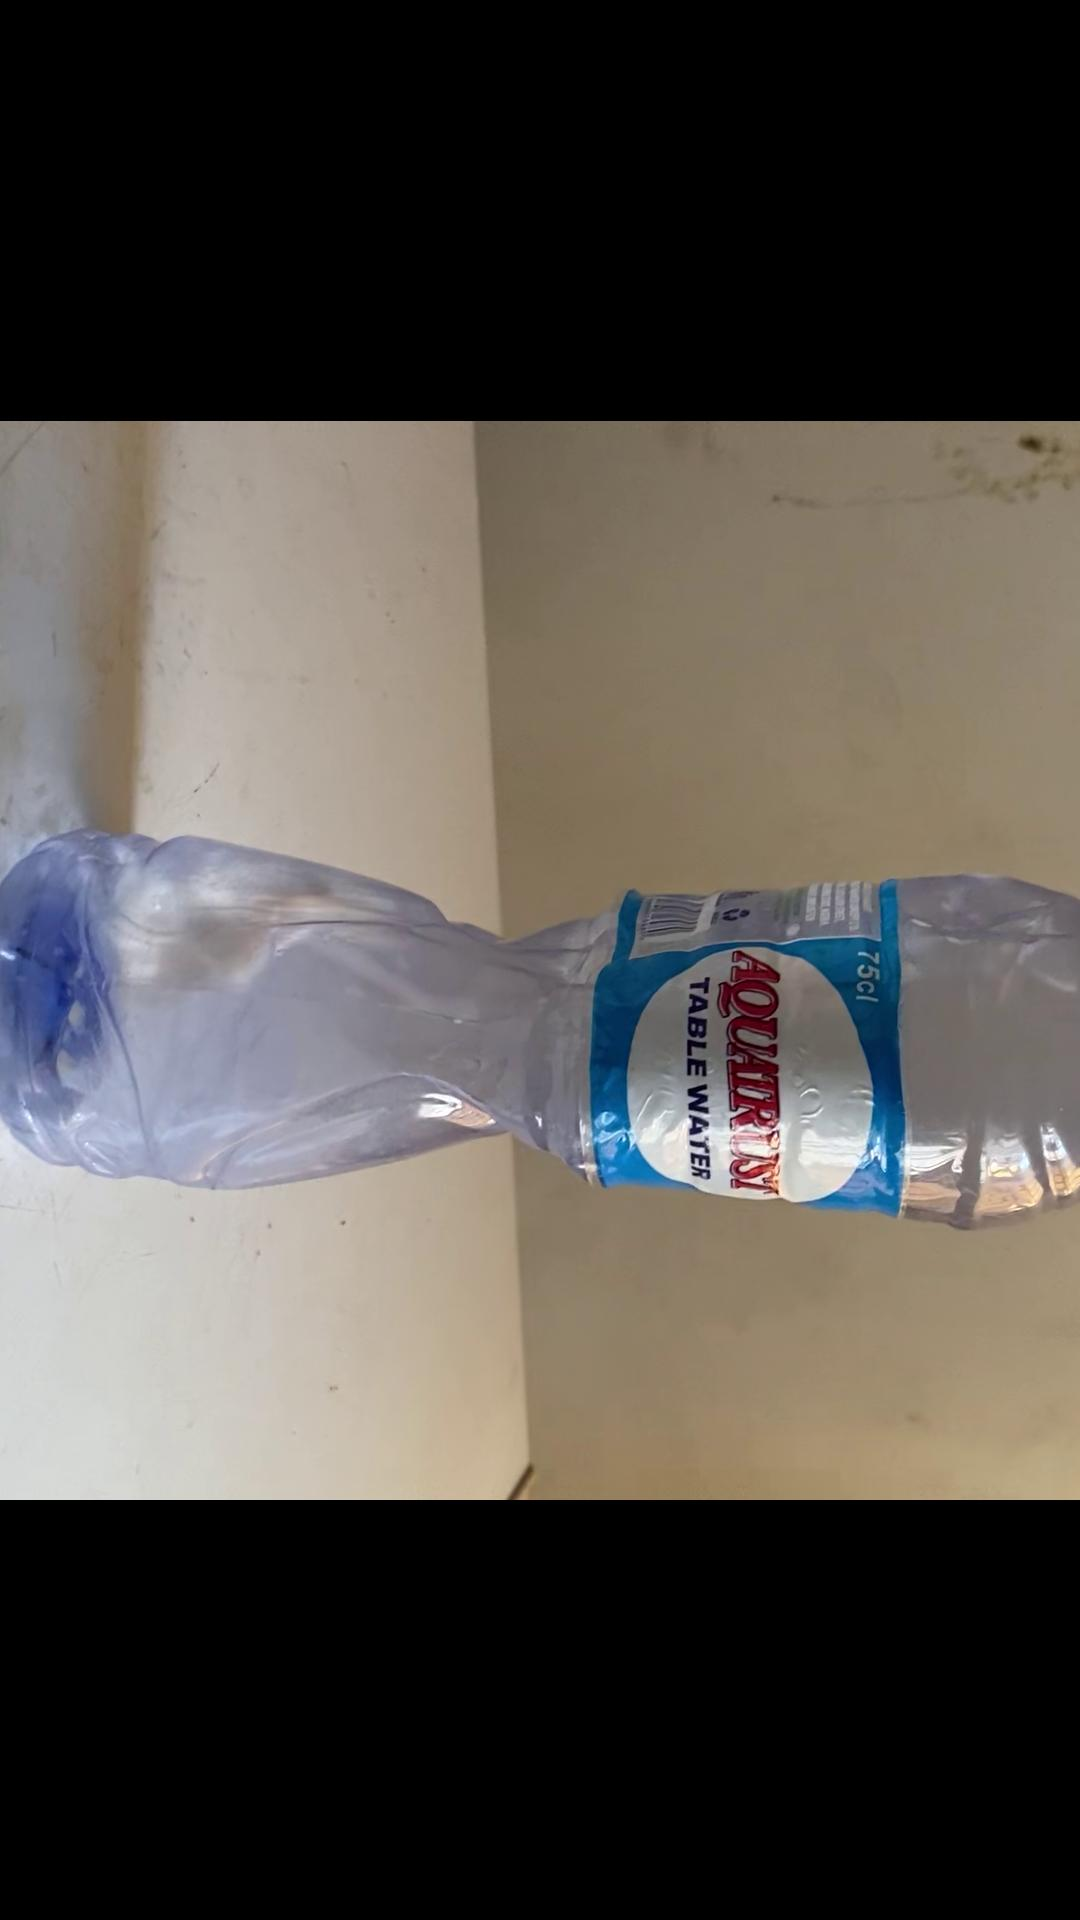crumbled: (0, 818, 1080, 1232)
label: (591, 887, 899, 1191)
